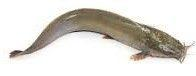Catfish: (8, 7, 190, 68)
